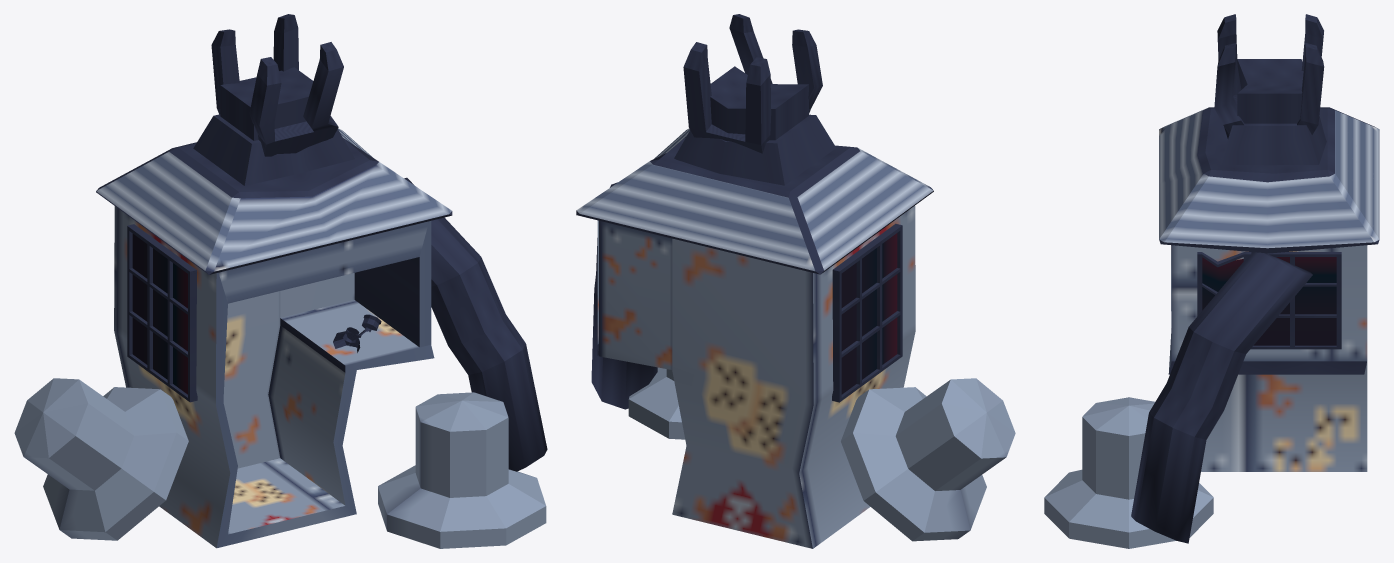
File: CabineTelefonicaQuebrada.fbx
The picture shows the model from 3 angles, left to right: view 1: azimuth 30°, elevation 25°; view 2: azimuth 150°, elevation 25°; view 3: azimuth 270°, elevation 25°; orthographic projection. The views are drawn at different scales.
Visible parts, largest first — view 1: Cabine; view 2: Cabine; view 3: Cabine.
Part boxes in pixels (x1,y1,x2,y2): Cabine: (14, 14, 547, 548); Cabine: (576, 14, 1015, 548); Cabine: (1044, 14, 1379, 548).
Bounding box in the file's own units: 410 × 267 × 381.
